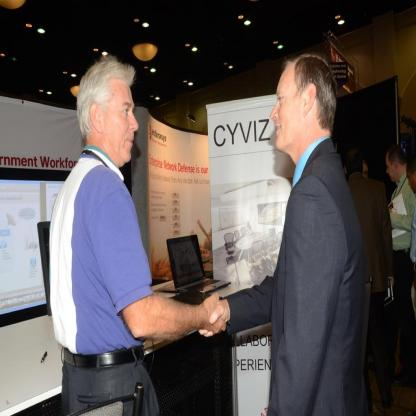board: (164, 232, 230, 298)
